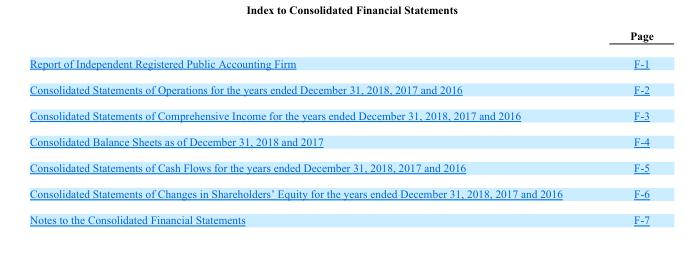table: (29, 29, 652, 225)
table column: (29, 29, 595, 225), (595, 29, 652, 225)
table column header: (29, 29, 652, 49)
table row: (29, 127, 652, 154), (29, 49, 652, 75), (29, 75, 652, 101), (29, 101, 652, 127), (29, 154, 652, 180), (29, 180, 652, 206), (29, 29, 652, 49), (29, 206, 652, 225)
